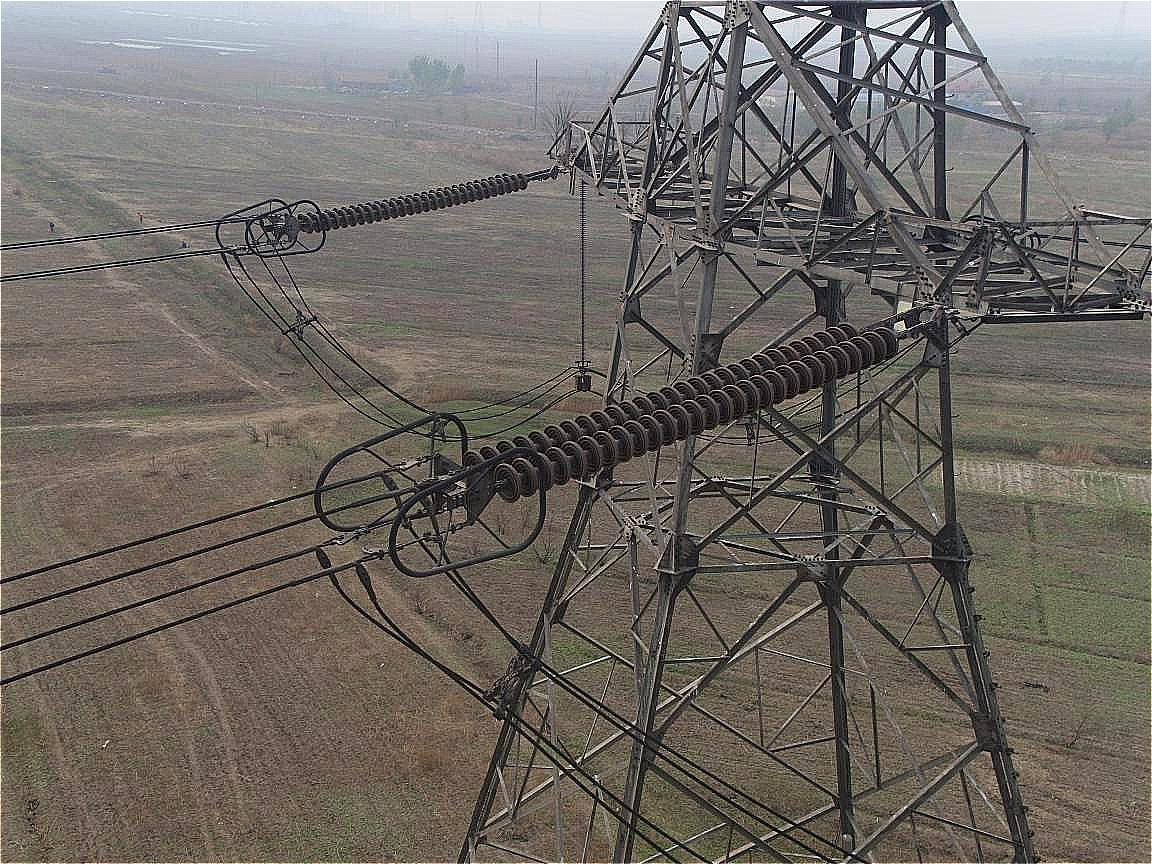insultor1: (421, 307, 904, 517), (283, 164, 548, 243)
